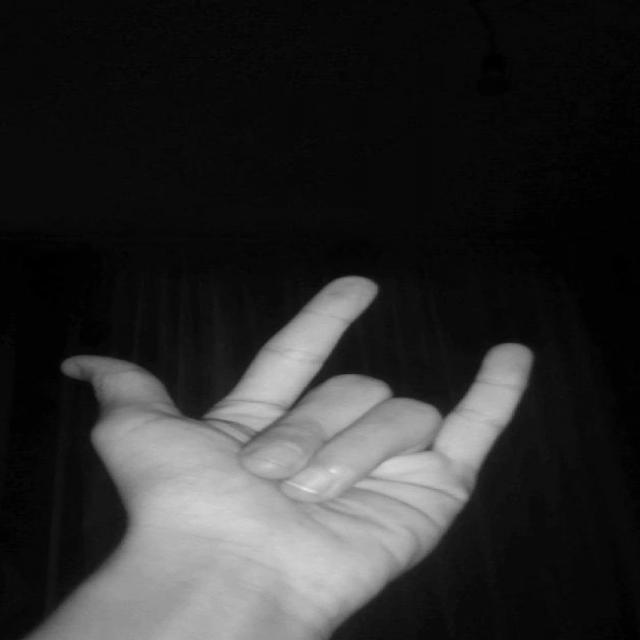i love you: (43, 266, 548, 627)
